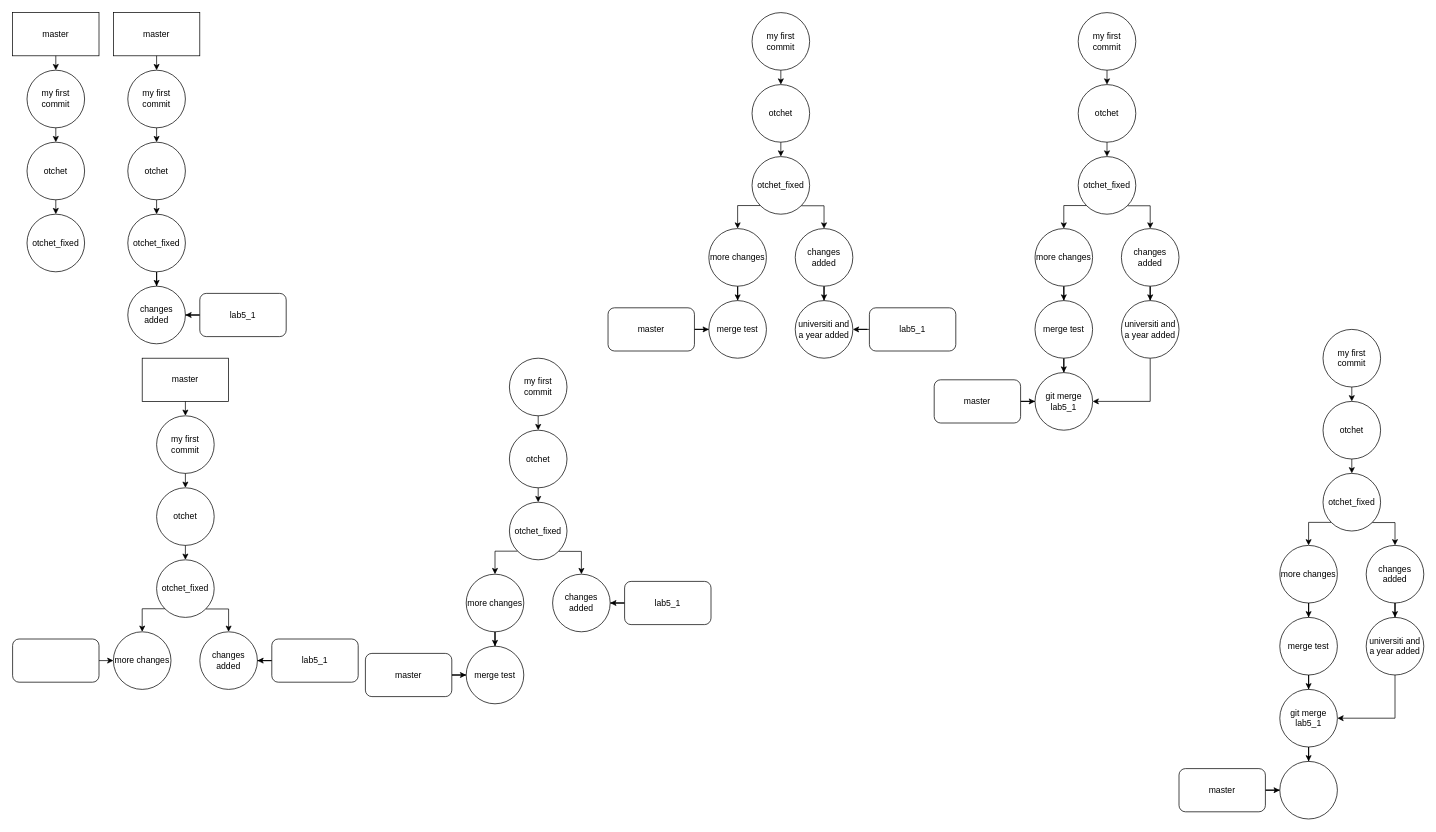
Some shapes in this 1436 by 832 pixel diagram are drawn without their labels. The shapes that lost their labels are listed below. From the top down, each one's centre as x and y in pixels, then its label:
At point 55,660: "lab5_2".
At point 1308,790: "otchet laba5 added".
